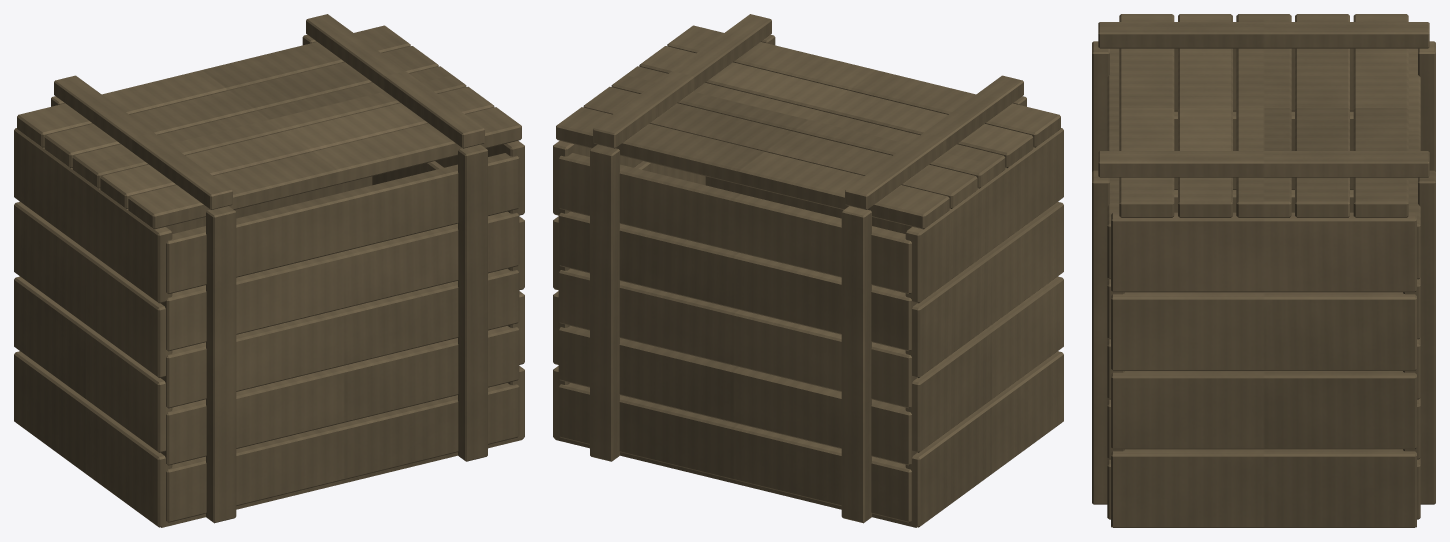
File: prop_supply_crate.glb
3 renders of one model, left to right at view 1: azimuth 30°, elevation 25°; view 2: azimuth 150°, elevation 25°; view 3: azimuth 270°, elevation 25°, orthographic. The views are drawn at different scales.
Visible parts, largest first — view 1: crate_boards, battens; view 2: crate_boards, battens; view 3: crate_boards, battens.
Part boxes in pixels (left/top/right/bottom): crate_boards: left=14, top=25, right=524, bottom=527; battens: left=51, top=14, right=487, bottom=523; crate_boards: left=553, top=25, right=1063, bottom=527; battens: left=590, top=14, right=1026, bottom=523; crate_boards: left=1107, top=14, right=1420, bottom=527; battens: left=1092, top=22, right=1435, bottom=504.
Size of the model in its own units: 0.88 by 0.7425 by 0.675.
1 material, 1 textured.
